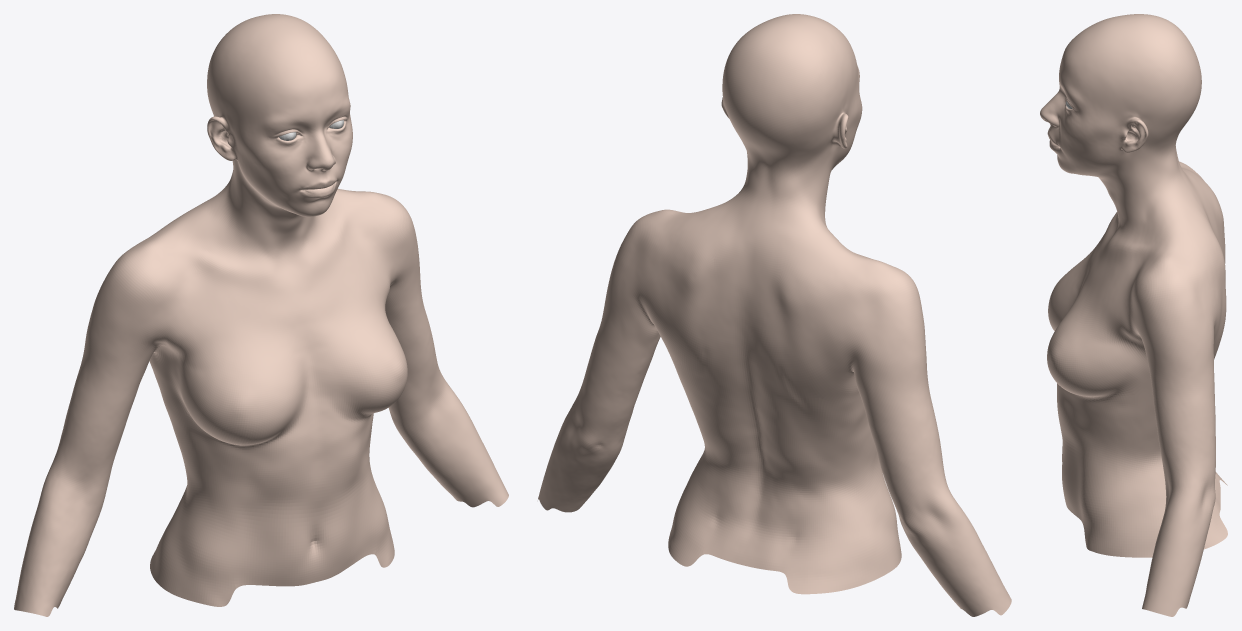
Rendered from female.glb.
3 views of the same model, side by side, from view 1: azimuth 30°, elevation 25°; view 2: azimuth 150°, elevation 25°; view 3: azimuth 270°, elevation 25° (orthographic). The views are drawn at different scales.
Parts seen in each view (by area): view 1: GEO-body_female_realistic; view 2: GEO-body_female_realistic; view 3: GEO-body_female_realistic.
Part boxes in pixels (box(x1,y1,x2,y2)): GEO-body_female_realistic: box(14, 14, 508, 616); GEO-body_female_realistic: box(538, 14, 1011, 616); GEO-body_female_realistic: box(1040, 14, 1227, 616).
Bounding box in the file's own units: 0.6717 × 0.7195 × 0.2487.
